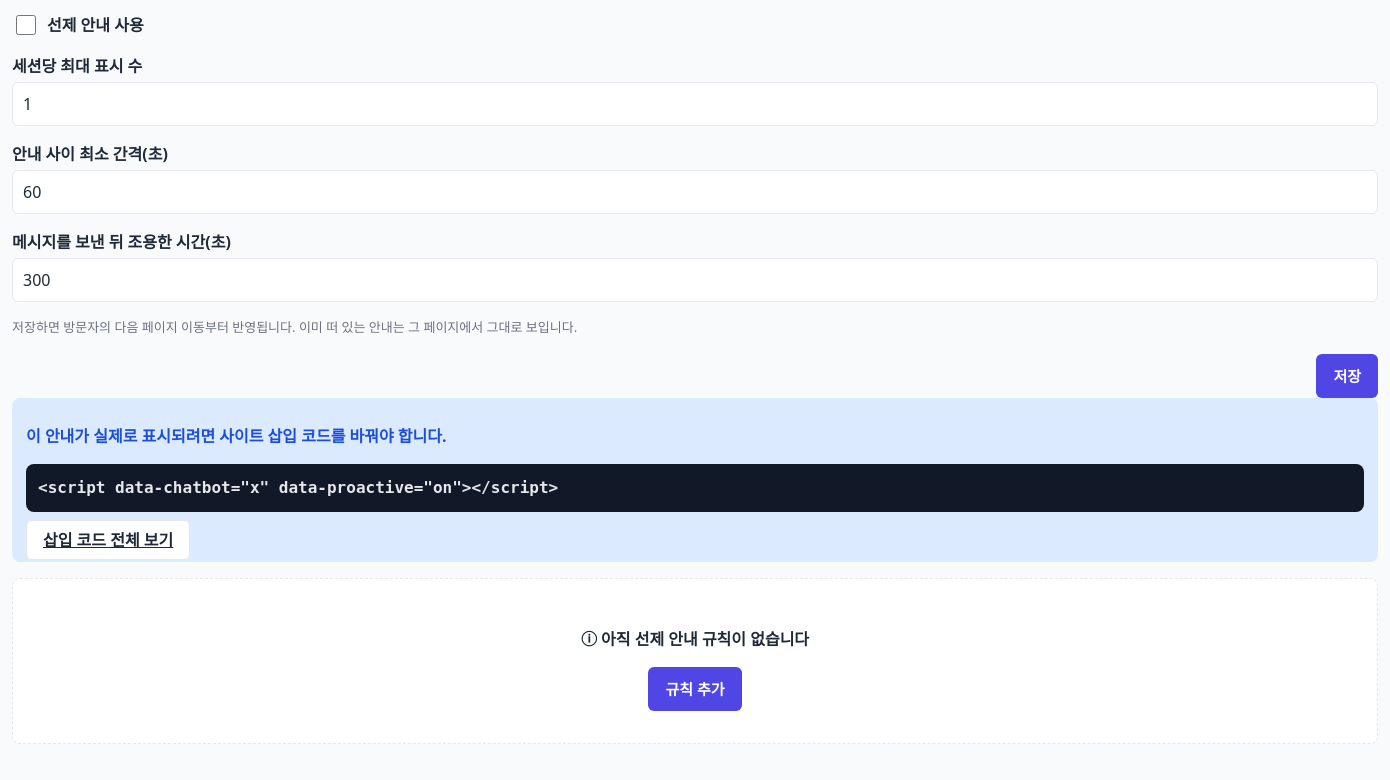
Test case: ProactiveSection — PA-C1~C3(진입점·설정·목록) › 세션당 최대 표시 수가 범위를 벗어나면 저장하지 않고 인라인 오류를 보여준다
Expected: the text "아직 선제 안내 규칙이 없습니다" is shown, [601,628,809,650]
Replace the text in the number field labelled "세션당 최대 표시 수" with "9". click: [695, 104]
box: [12,82,1378,126]
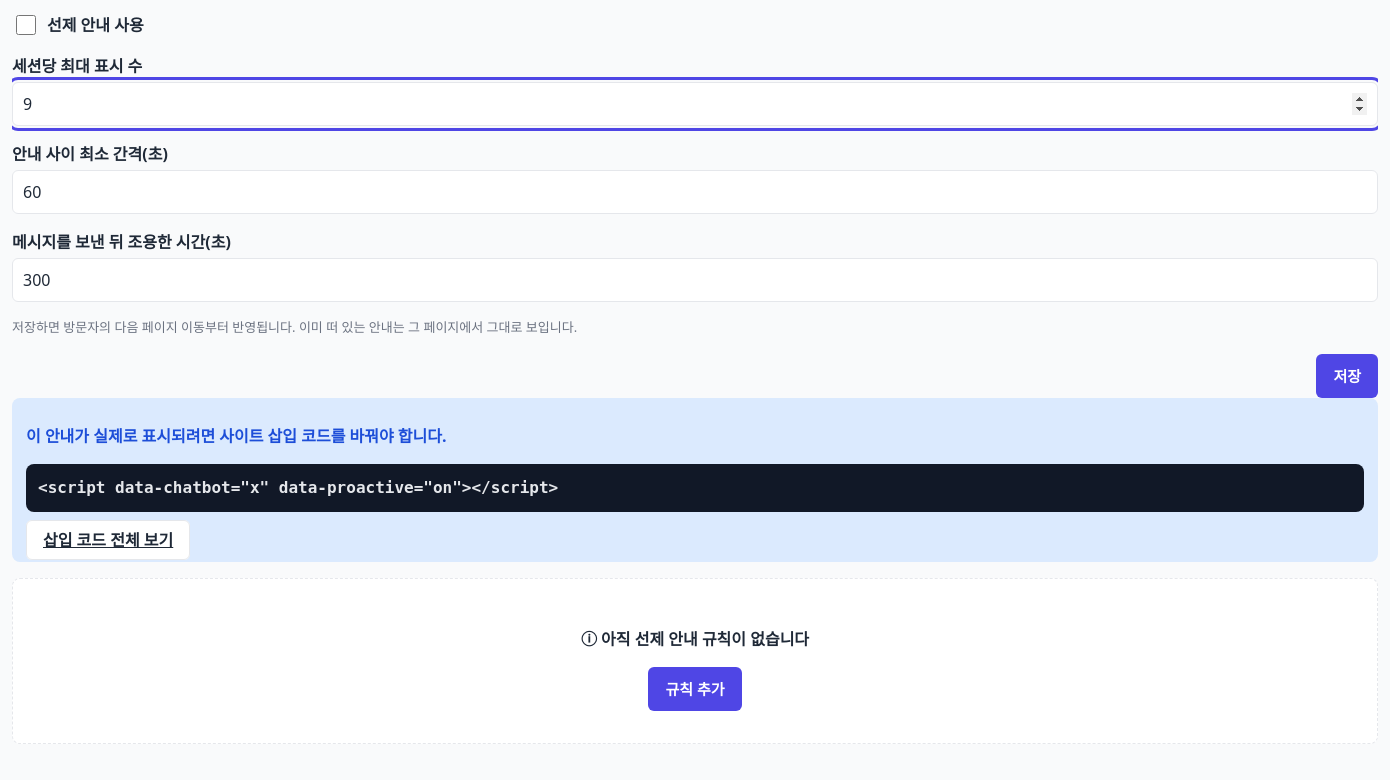
Click the button "저장". click: [1347, 376]
box: [1316,354,1378,398]
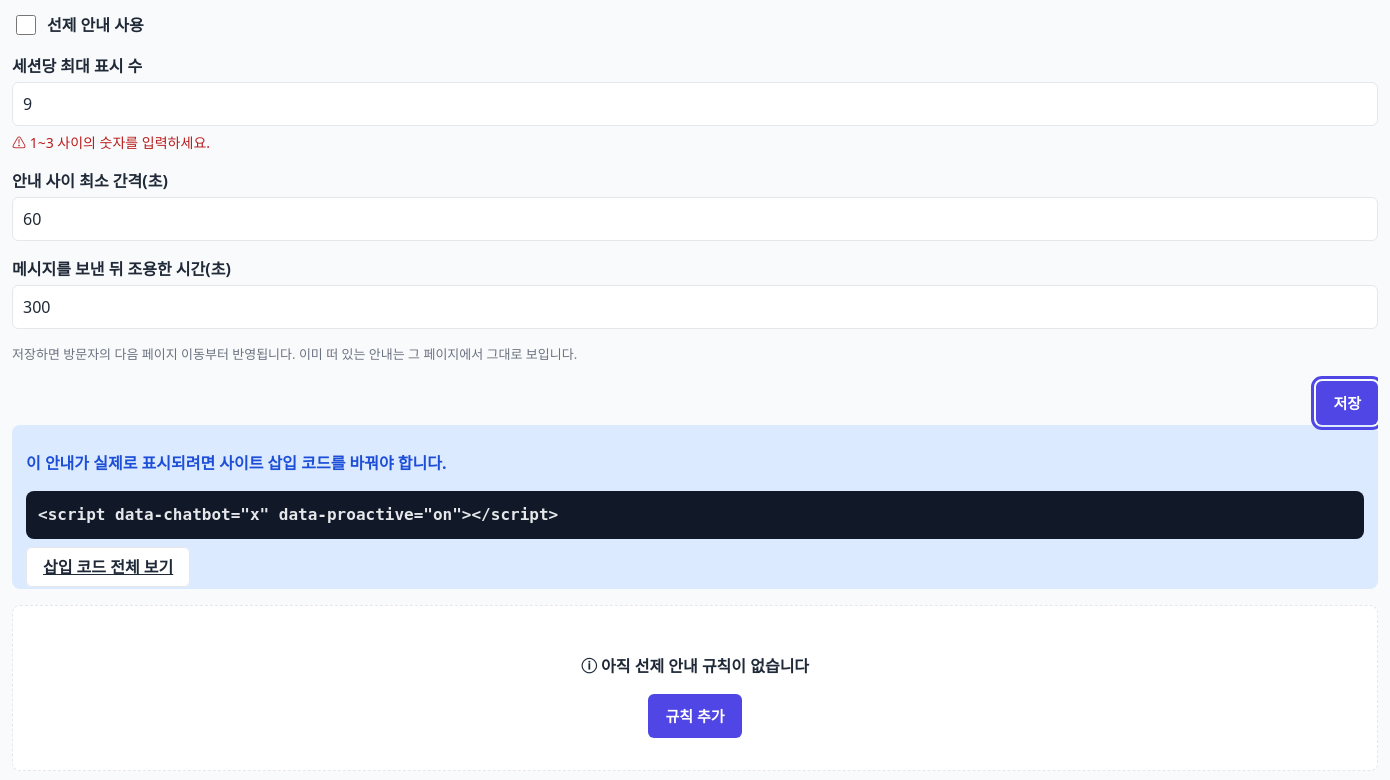
Expected: the text "1~3 사이의 숫자를 입력하세요." is shown, [30,133,210,152]
